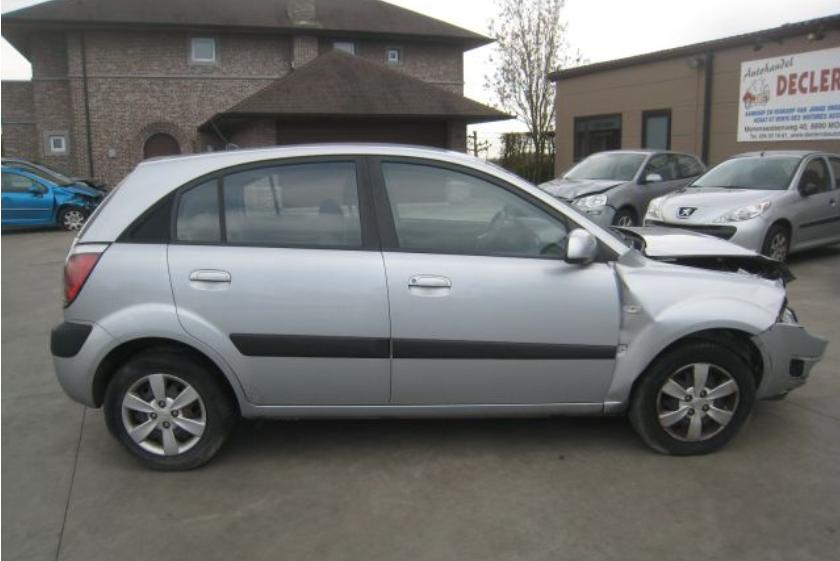Back-bumper: (50, 319, 122, 408)
Back-door: (167, 154, 392, 406)
Back-wheel: (103, 342, 238, 471)
Back-window: (223, 161, 363, 246), (177, 177, 221, 240)
Back-windshield: (76, 173, 130, 242)
Fender: (603, 245, 788, 416)
Front-bumper: (749, 323, 829, 401)
Front-door: (367, 155, 622, 405)
Front-wheel: (627, 337, 757, 456)
Front-window: (381, 162, 566, 255)
Headlight: (773, 297, 798, 324)
Hood: (607, 226, 797, 287)
Mirror: (563, 216, 620, 265)
Quarter-panel: (62, 243, 254, 405)
Rocker-panel: (240, 403, 604, 417)
Roof: (140, 142, 487, 165)
Tail-light: (63, 241, 113, 308)
Trunk: (68, 237, 79, 254)
Windshield: (483, 160, 631, 249)
